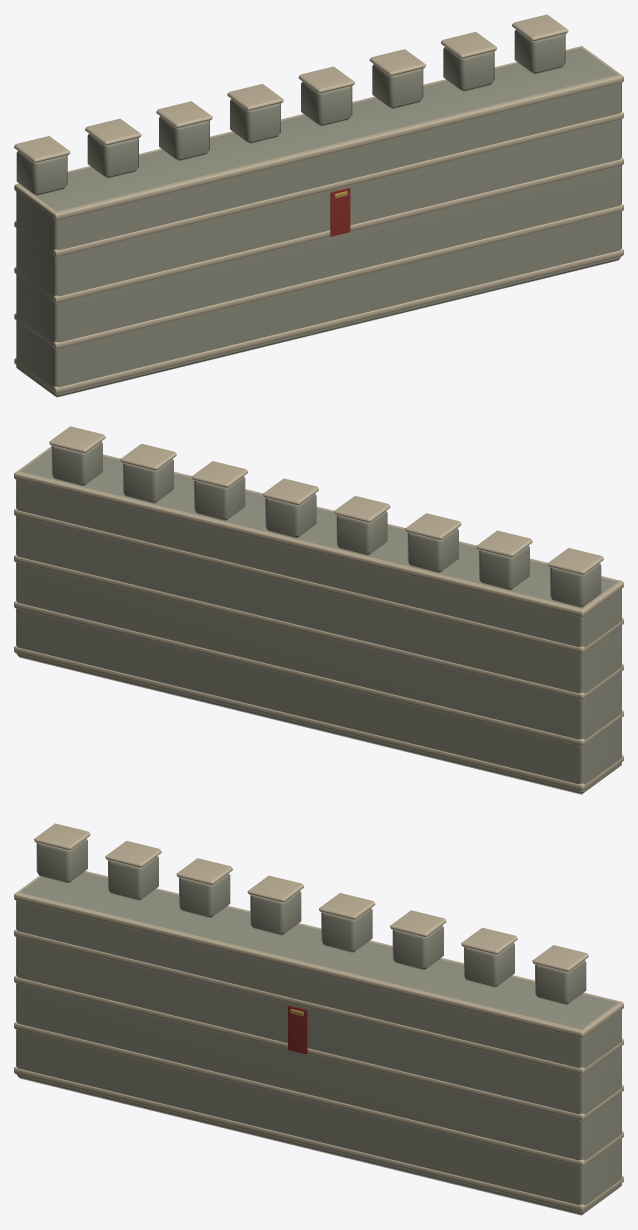
The model's file is architecture-rampart.glb.
The picture shows the model from 3 angles, top to bottom: view 1: azimuth 30°, elevation 25°; view 2: azimuth 150°, elevation 25°; view 3: azimuth 330°, elevation 25°; orthographic projection.
Parts seen in each view (by area): view 1: architecture-rampart-exterior; view 2: architecture-rampart-exterior; view 3: architecture-rampart-exterior.
Boxes of the visible parts, bbox=[...] form: architecture-rampart-exterior: bbox=[14, 14, 623, 397]; architecture-rampart-exterior: bbox=[14, 426, 623, 794]; architecture-rampart-exterior: bbox=[14, 823, 623, 1215].
Size of the model in its own units: 8.01 by 3.04 by 1.06.
